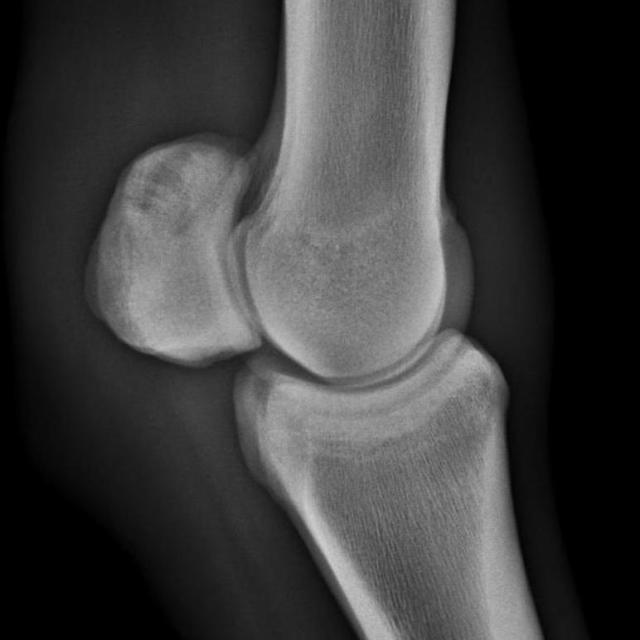bone remodeling: (186, 112, 255, 194)
